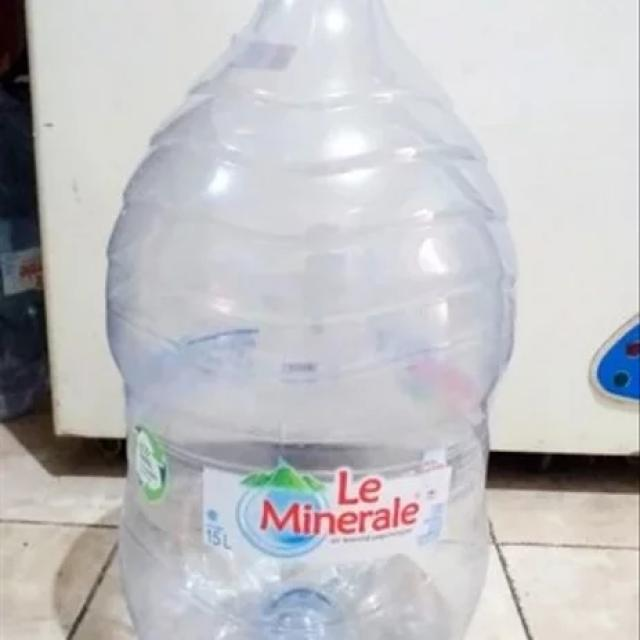Galon: (102, 0, 520, 639)
